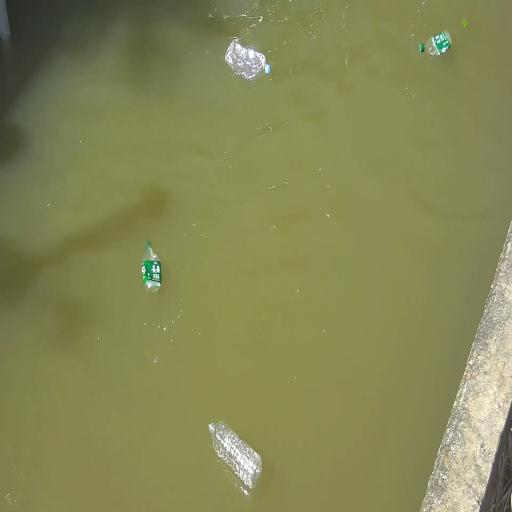plastic: (209, 422, 262, 489), (225, 38, 270, 80), (140, 240, 161, 299), (419, 30, 451, 56)
